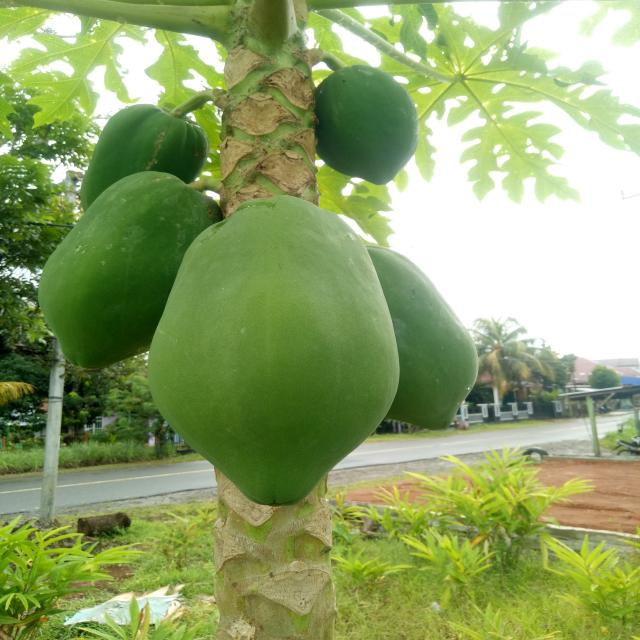Pepaya unrippen: (150, 197, 402, 518), (24, 178, 210, 374), (376, 252, 500, 442), (299, 59, 423, 190), (59, 102, 209, 174)
